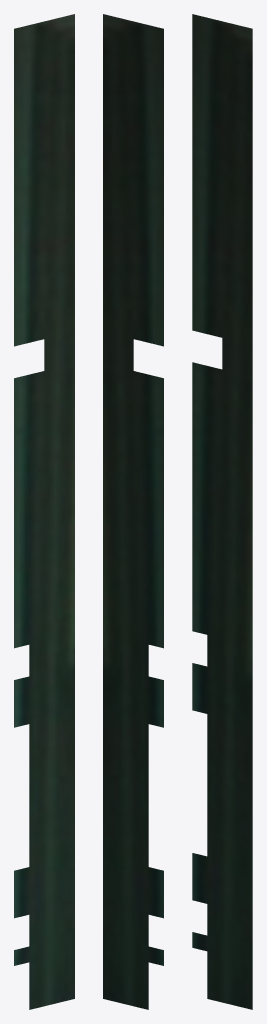
File: region.obj
3 renders of one model, left to right at view 1: azimuth 30°, elevation 25°; view 2: azimuth 150°, elevation 25°; view 3: azimuth 330°, elevation 25°, orthographic.
Visible parts, largest first — view 1: owned_material_region; view 2: owned_material_region; view 3: owned_material_region.
Part boxes in pixels (x1=…): owned_material_region: x1=14, y1=14, x2=74, y2=1009; owned_material_region: x1=103, y1=14, x2=163, y2=1009; owned_material_region: x1=192, y1=14, x2=252, y2=1009.
Size of the model in its own units: 0.6667 by 10.33 by 0.
Materials: 1 (1 with a texture image).
